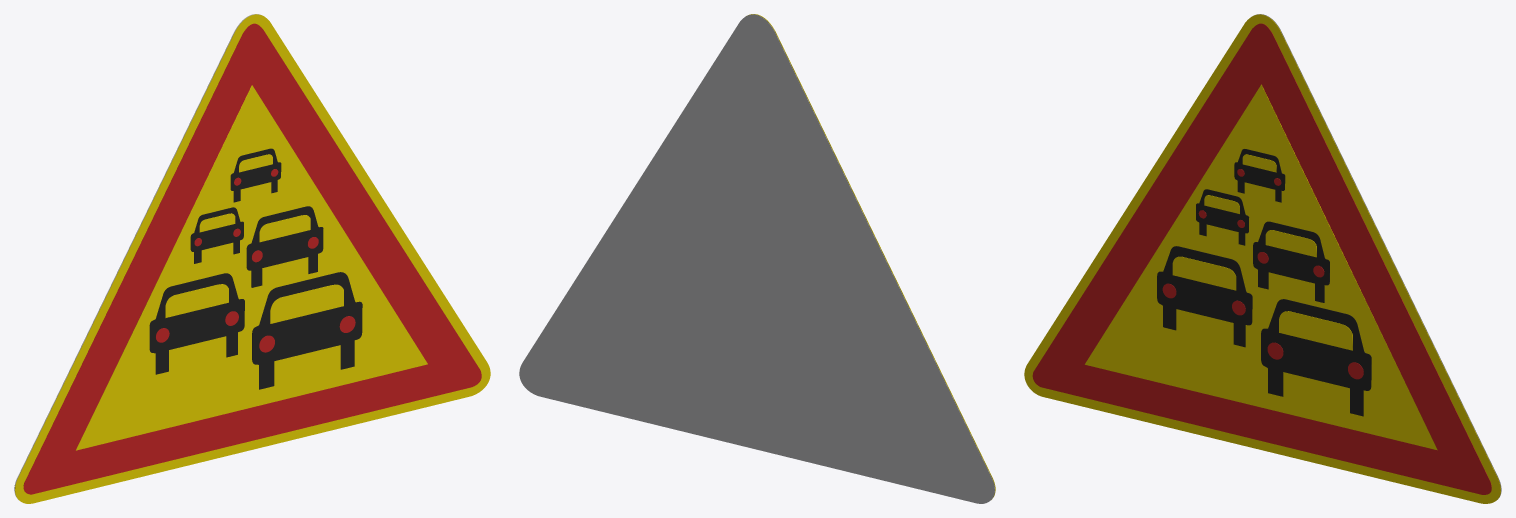
3 views of the same model, side by side, from view 1: azimuth 30°, elevation 25°; view 2: azimuth 150°, elevation 25°; view 3: azimuth 330°, elevation 25° (orthographic).
Visible parts, largest first — view 1: AK30_p01, AK30_p02, AK30_p00, AK30_p03, AK30_p07, AK30_p11, AK30_p04, AK30_p15, AK30_p08, AK30_p19, AK30_p12, AK30_dos; view 2: AK30_dos, AK30_p00; view 3: AK30_p01, AK30_p02, AK30_p00, AK30_p03, AK30_p07, AK30_p11, AK30_p04, AK30_p15, AK30_p08, AK30_p19, AK30_p12, AK30_dos.
Boxes of the visible parts, x1=… form: AK30_p01: x1=23, y1=23, x2=481, y2=494; AK30_p02: x1=76, y1=85, x2=427, y2=450; AK30_p00: x1=15, y1=14, x2=490, y2=503; AK30_p03: x1=252, y1=272, x2=362, y2=389; AK30_p07: x1=149, y1=273, x2=244, y2=374; AK30_p11: x1=246, y1=206, x2=323, y2=287; AK30_p04: x1=270, y1=284, x2=343, y2=323; AK30_p15: x1=190, y1=207, x2=243, y2=263; AK30_p08: x1=165, y1=284, x2=228, y2=317; AK30_p19: x1=230, y1=148, x2=281, y2=202; AK30_p12: x1=259, y1=215, x2=310, y2=242; AK30_dos: x1=14, y1=14, x2=261, y2=499; AK30_dos: x1=519, y1=14, x2=994, y2=503; AK30_p00: x1=748, y1=14, x2=995, y2=499; AK30_p01: x1=1032, y1=23, x2=1491, y2=494; AK30_p02: x1=1085, y1=84, x2=1437, y2=450; AK30_p00: x1=1024, y1=14, x2=1500, y2=503; AK30_p03: x1=1261, y1=299, x2=1371, y2=416; AK30_p07: x1=1157, y1=246, x2=1252, y2=347; AK30_p11: x1=1253, y1=221, x2=1329, y2=302; AK30_p04: x1=1279, y1=311, x2=1352, y2=350; AK30_p15: x1=1196, y1=189, x2=1249, y2=245; AK30_p08: x1=1172, y1=256, x2=1236, y2=290; AK30_p19: x1=1234, y1=149, x2=1285, y2=202; AK30_p12: x1=1265, y1=230, x2=1316, y2=257; AK30_dos: x1=1254, y1=14, x2=1501, y2=499.
Bounding box in the file's own units: 0.7 × 0.6116 × 0.0107.
